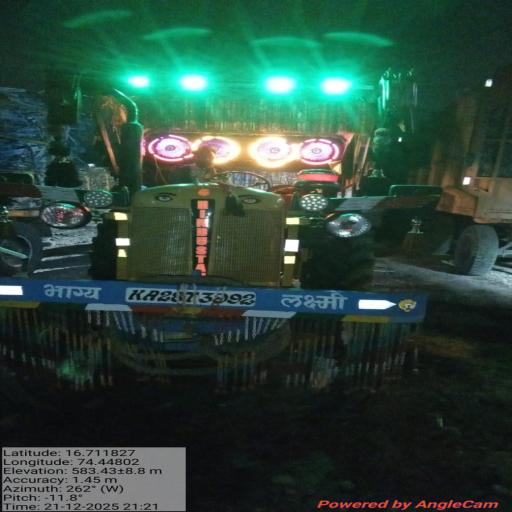number_plate: (118, 284, 274, 317)
